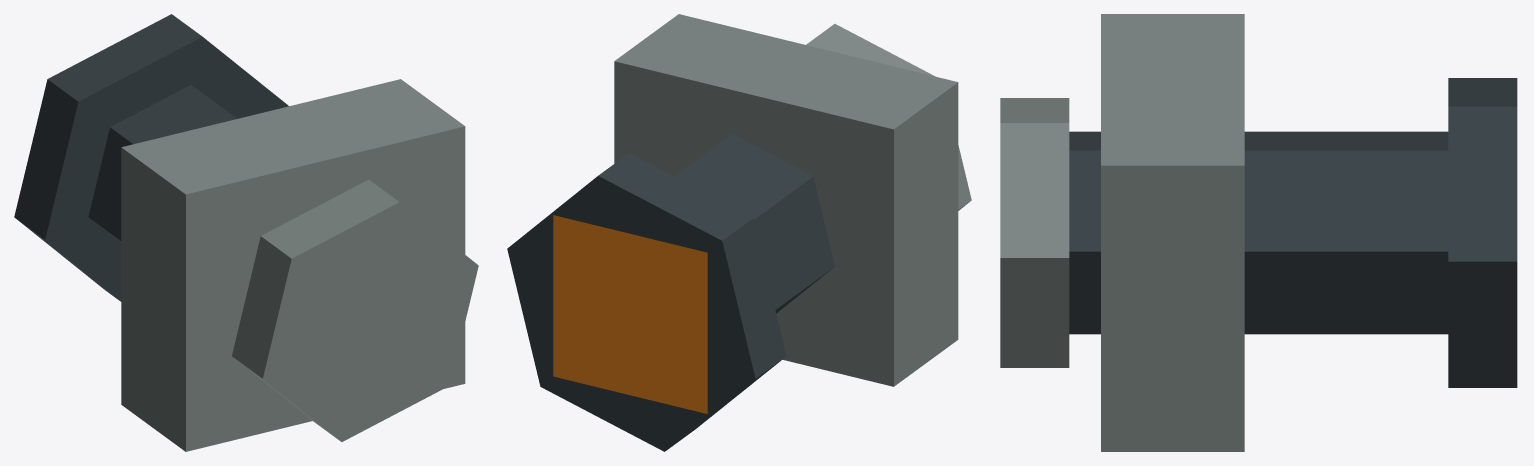
3 views of the same model, side by side, from view 1: azimuth 30°, elevation 25°; view 2: azimuth 150°, elevation 25°; view 3: azimuth 270°, elevation 25° (orthographic). The views are drawn at different scales.
Visible parts, largest first — view 1: mount; view 2: mount; view 3: mount.
Boxes of the visible parts, box(x1,y1,x2,y2) form: mount: box(14, 14, 478, 451); mount: box(507, 14, 971, 451); mount: box(1000, 14, 1517, 451).
Bounding box in the file's own units: 5 × 4.44 × 7.23.
